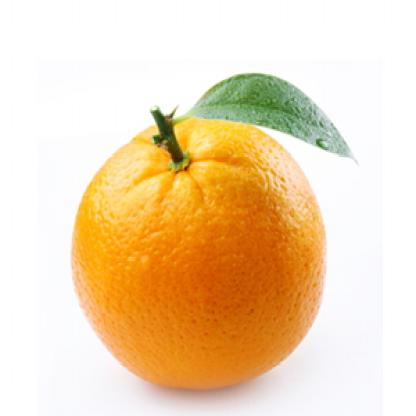orange: (77, 113, 332, 395)
